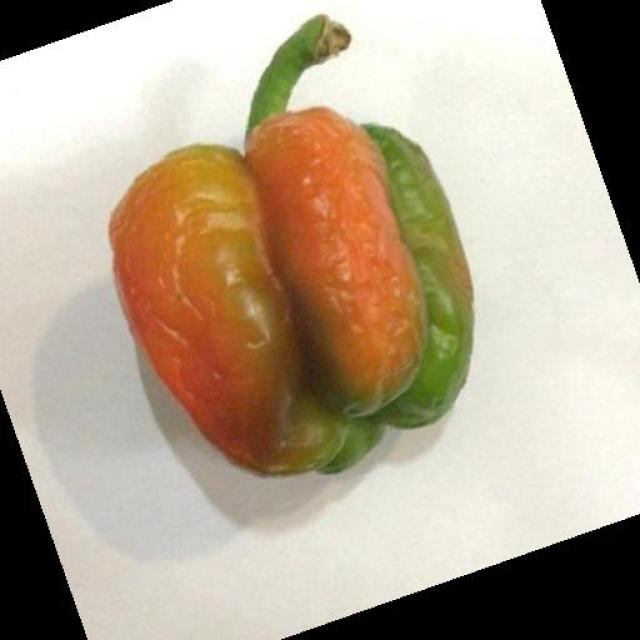Stale_Capsicum: (89, 103, 509, 473)
